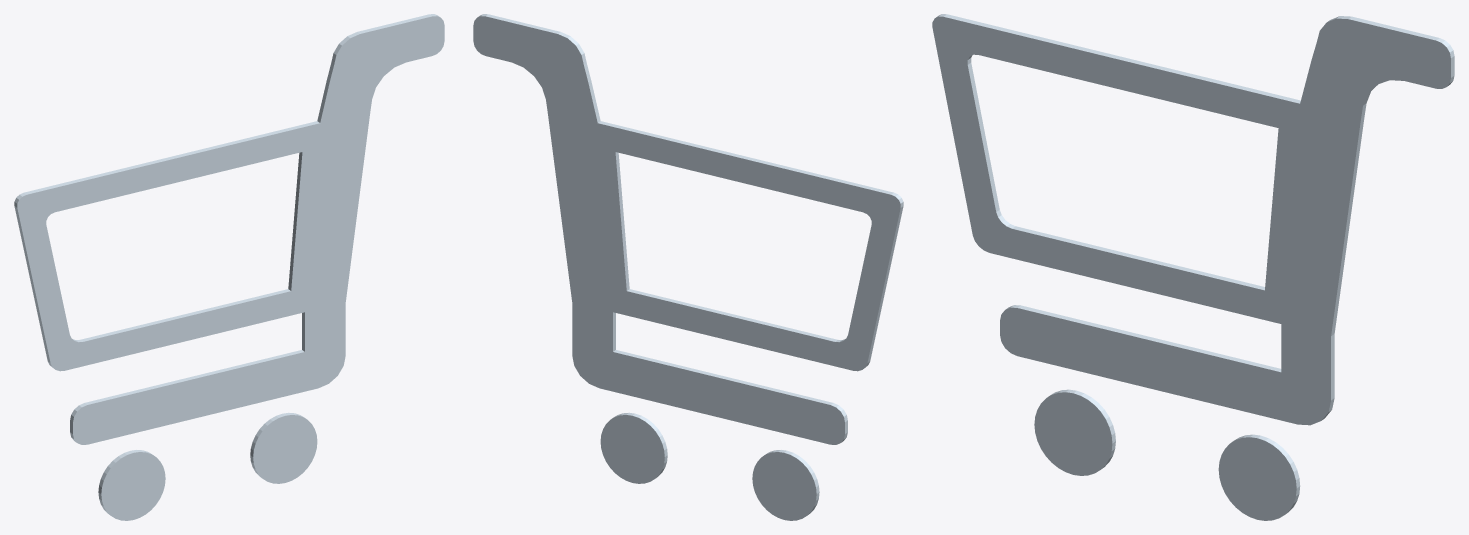
File: Shopping_Cart_3D_Icon_01.fbx
3 views of the same model, side by side, from view 1: azimuth 30°, elevation 25°; view 2: azimuth 150°, elevation 25°; view 3: azimuth 330°, elevation 25° (orthographic). The views are drawn at different scales.
Visible parts, largest first — view 1: Shopping_Cart_3D_Icon_01; view 2: Shopping_Cart_3D_Icon_01; view 3: Shopping_Cart_3D_Icon_01.
Boxes of the visible parts, x1,y1,x2,y2 form: Shopping_Cart_3D_Icon_01: (14,14,444,520); Shopping_Cart_3D_Icon_01: (473,14,903,520); Shopping_Cart_3D_Icon_01: (932,14,1454,520).
Bounding box in the file's own units: 169 × 163 × 2.
